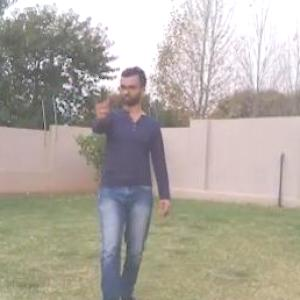takeoff-hand: (92, 86, 116, 120)
